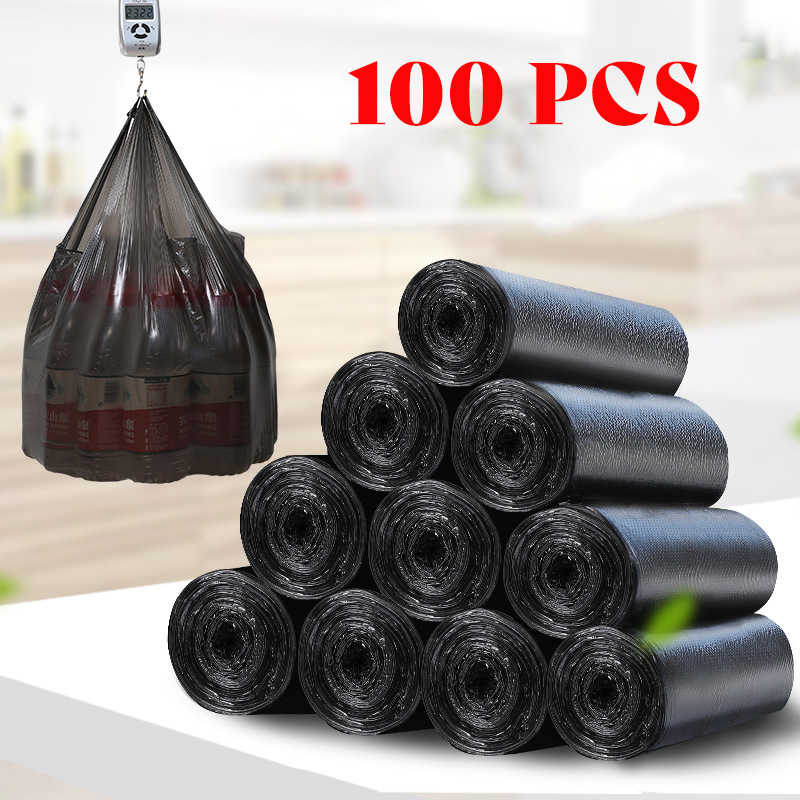plastic_bag: (13, 91, 283, 488), (398, 251, 694, 397)
